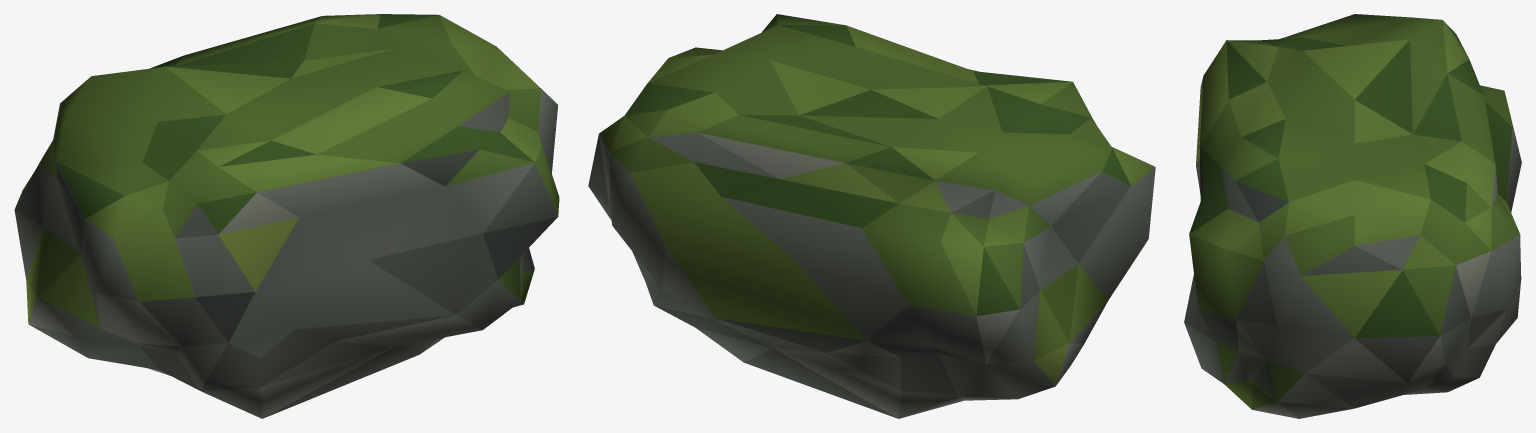
File: forest-rock-2.glb
3 views of the same model, side by side, from view 1: azimuth 30°, elevation 25°; view 2: azimuth 150°, elevation 25°; view 3: azimuth 270°, elevation 25° (orthographic). The views are drawn at different scales.
Parts seen in each view (by area): view 1: forest-rock-2/0; view 2: forest-rock-2/0; view 3: forest-rock-2/0.
Part boxes in pixels (<box>): forest-rock-2/0: <box>14,14,559,418</box>; forest-rock-2/0: <box>588,14,1155,418</box>; forest-rock-2/0: <box>1184,14,1521,418</box>.
Size of the model in its own units: 2.8 by 1.56 by 1.74.
